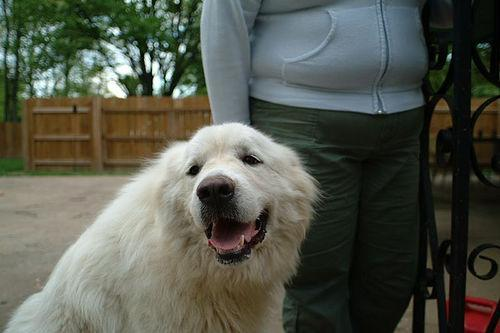Great_Pyrenees: (4, 121, 319, 332)
